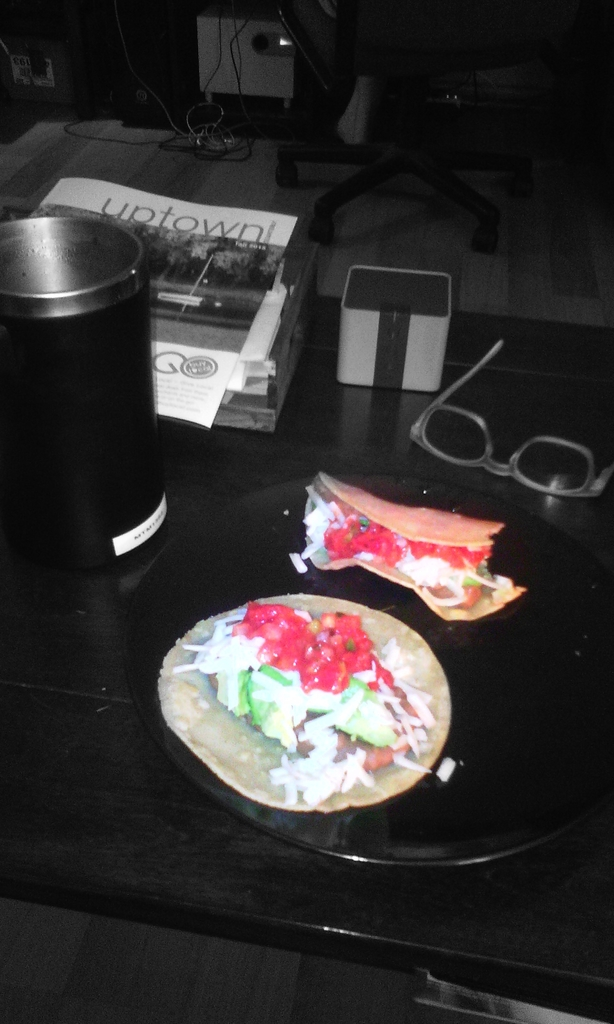taco: (160, 590, 455, 810), (299, 469, 528, 621)
